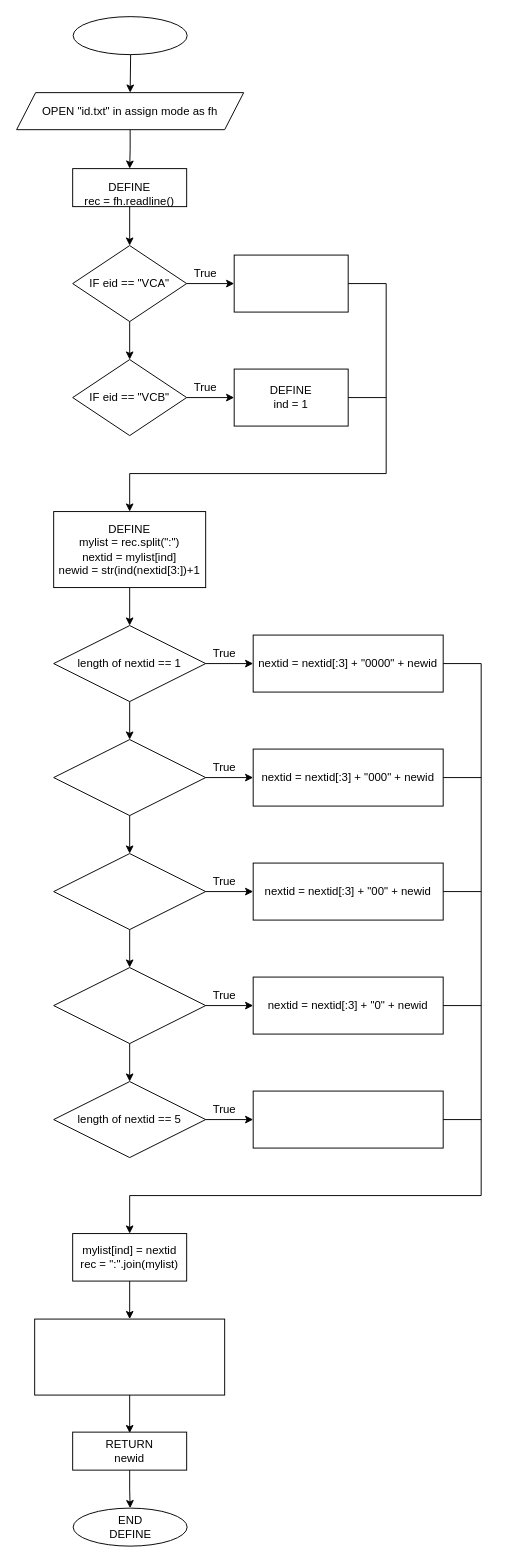
The diagram is 505 pixels wide and 1563 high, and some of its shapes have lost their labels. Here are the shapes that lost their labels. From the top down, the centre of each, then its label:
pixel 129 35: DEFINE gen_new_id(eid)
pixel 290 283: DEFINE ind = 0
pixel 129 777: length of nextid == 2
pixel 129 891: length of nextid == 3
pixel 129 1005: length of nextid == 4
pixel 347 1119: nextid = nextid[:3] + newid
pixel 129 1356: OPEN "id.txt" in write mode as fh then write rec inside
